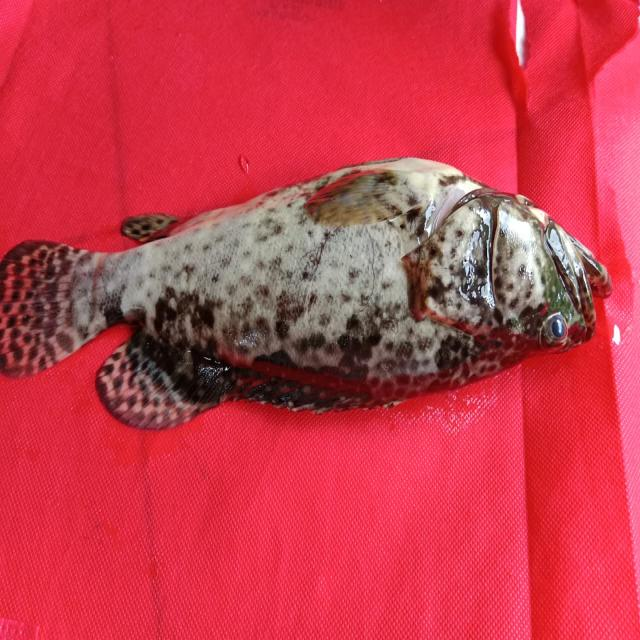ikan: (7, 144, 616, 452)
